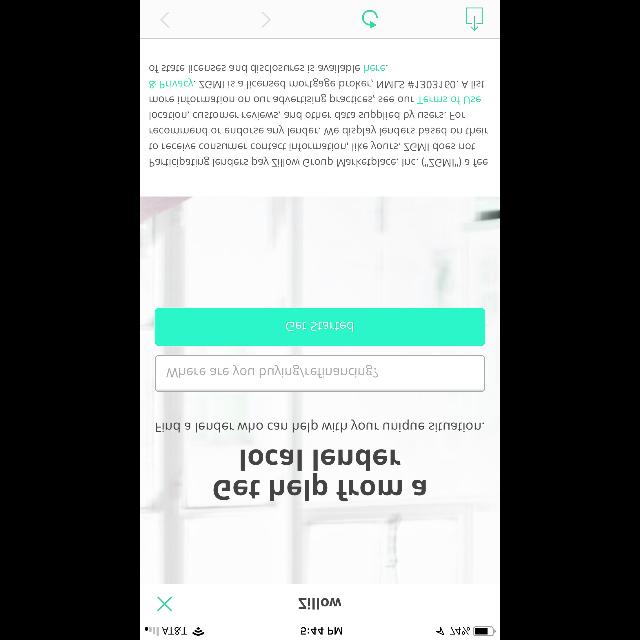icon: (466, 7, 482, 31), (362, 10, 378, 28), (158, 596, 172, 612), (261, 12, 271, 28), (160, 12, 170, 28)
image: (140, 196, 500, 584)
input: (155, 354, 485, 392)
text: (150, 65, 484, 167), (214, 449, 426, 501), (156, 420, 484, 432), (166, 364, 378, 378), (298, 597, 342, 609)
textbutton: (155, 308, 485, 346)
uppertaskbar: (140, 626, 500, 640)
